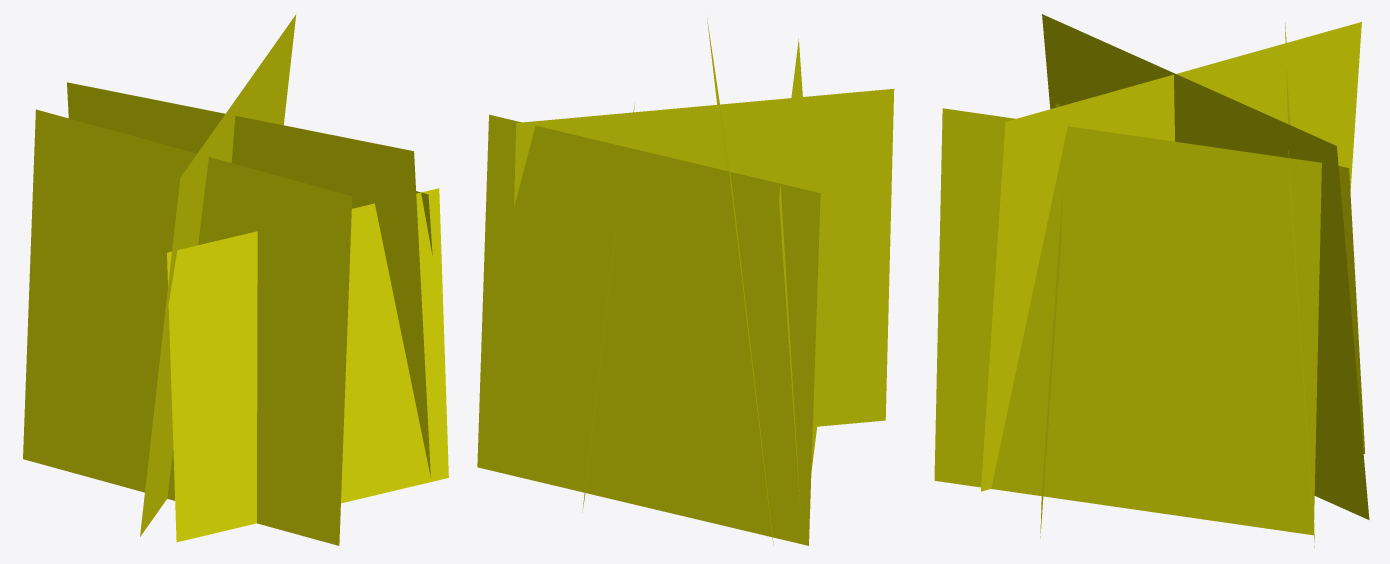
Rendered from flower_c.glb.
The picture shows the model from 3 angles, left to right: view 1: azimuth 30°, elevation 25°; view 2: azimuth 150°, elevation 25°; view 3: azimuth 270°, elevation 25°; orthographic projection. The views are drawn at different scales.
Visible parts, largest first — view 1: SM_Lavender; view 2: SM_Lavender; view 3: SM_Lavender.
Part boxes in pixels (x1,y1,x2,y2): SM_Lavender: (23,14,448,545); SM_Lavender: (477,18,894,546); SM_Lavender: (934,14,1369,547).
Size of the model in its own units: 0.9195 by 0.9801 by 1.01.
